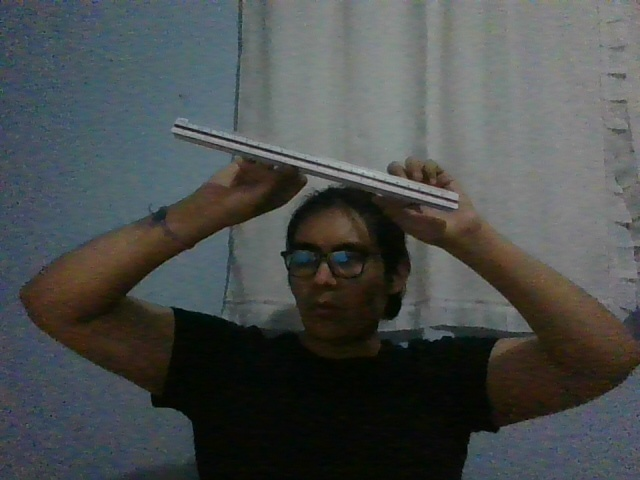regla: (170, 116, 459, 214)
